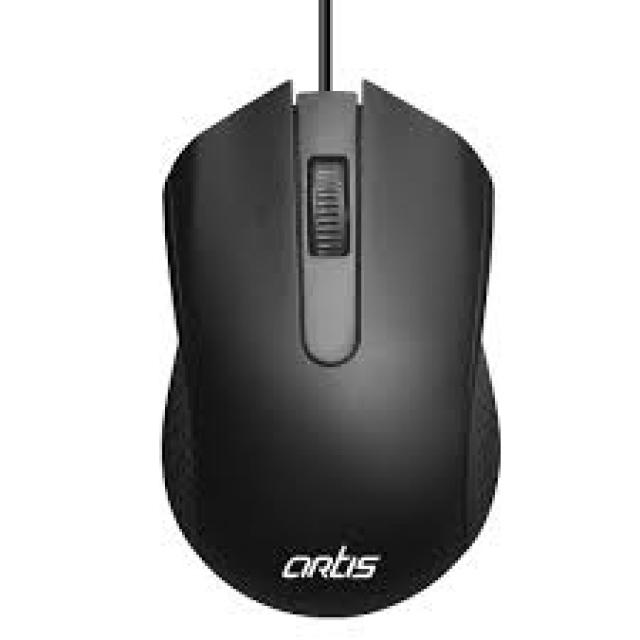others: (137, 3, 538, 623)
